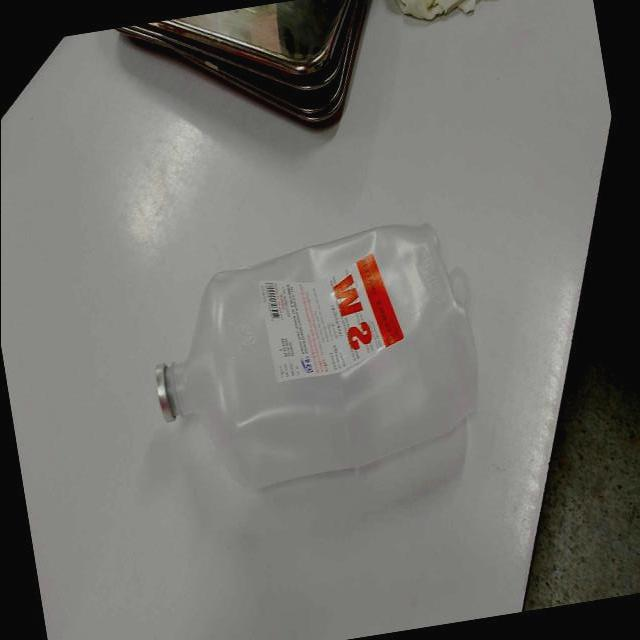General: (3, 1, 614, 637)
Infectious: (155, 221, 480, 516)
